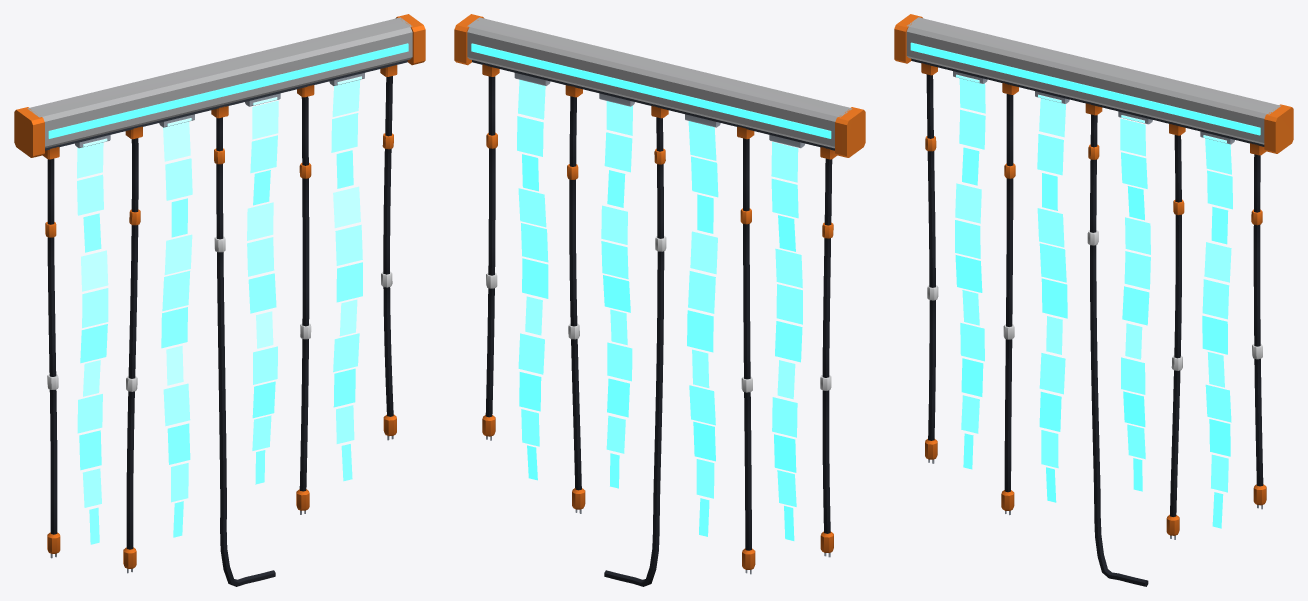
The model's file is curtain_space.glb.
The picture shows the model from 3 angles, left to right: view 1: azimuth 30°, elevation 25°; view 2: azimuth 150°, elevation 25°; view 3: azimuth 330°, elevation 25°; orthographic projection. The views are drawn at different scales.
Visible parts, largest first — view 1: curtain_space; view 2: curtain_space; view 3: curtain_space.
Part boxes in pixels (left/top/right/bottom): curtain_space: left=14, top=14, right=425, bottom=586; curtain_space: left=454, top=14, right=865, bottom=586; curtain_space: left=894, top=14, right=1293, bottom=586.
Size of the model in its own units: 3.3 by 4.21 by 0.27.
